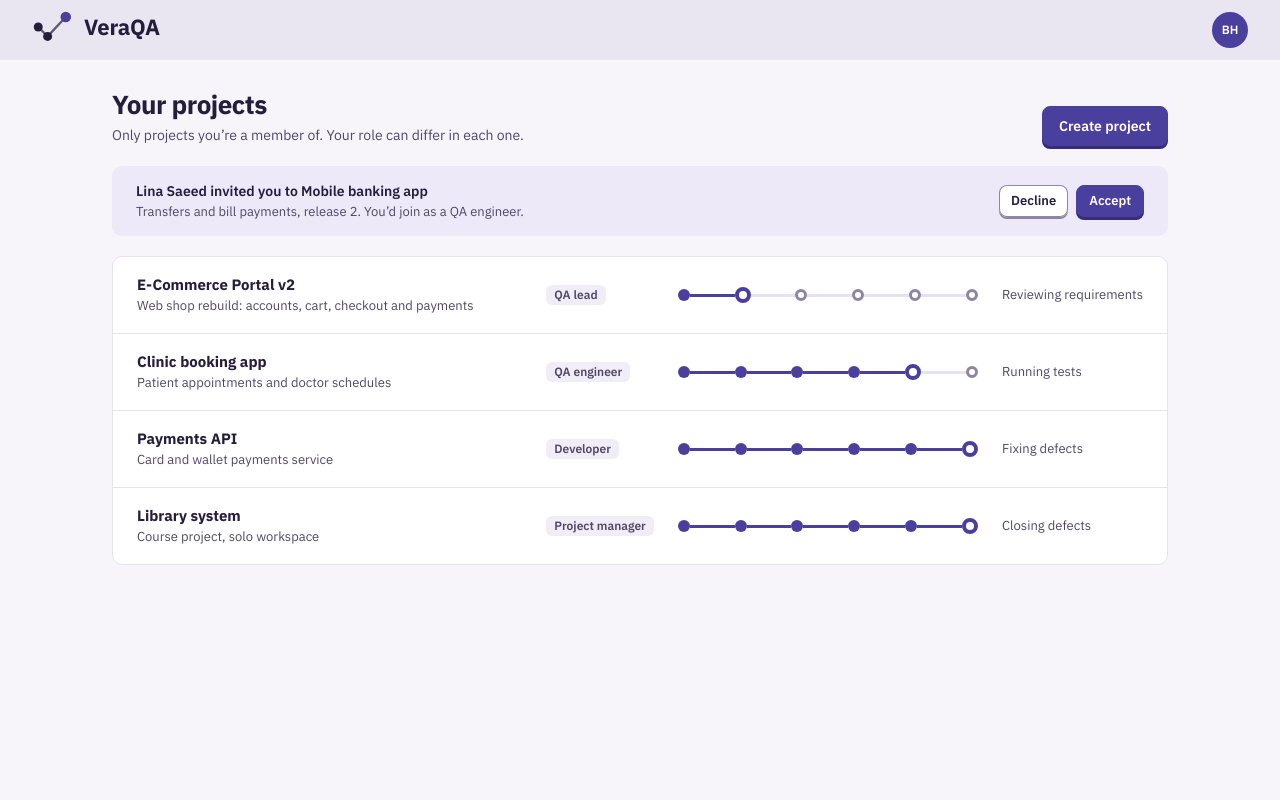
Test: Your projects › opens the project and says so when you accept
Click the button "Accept": (1110, 201) [1076,185,1144,217]
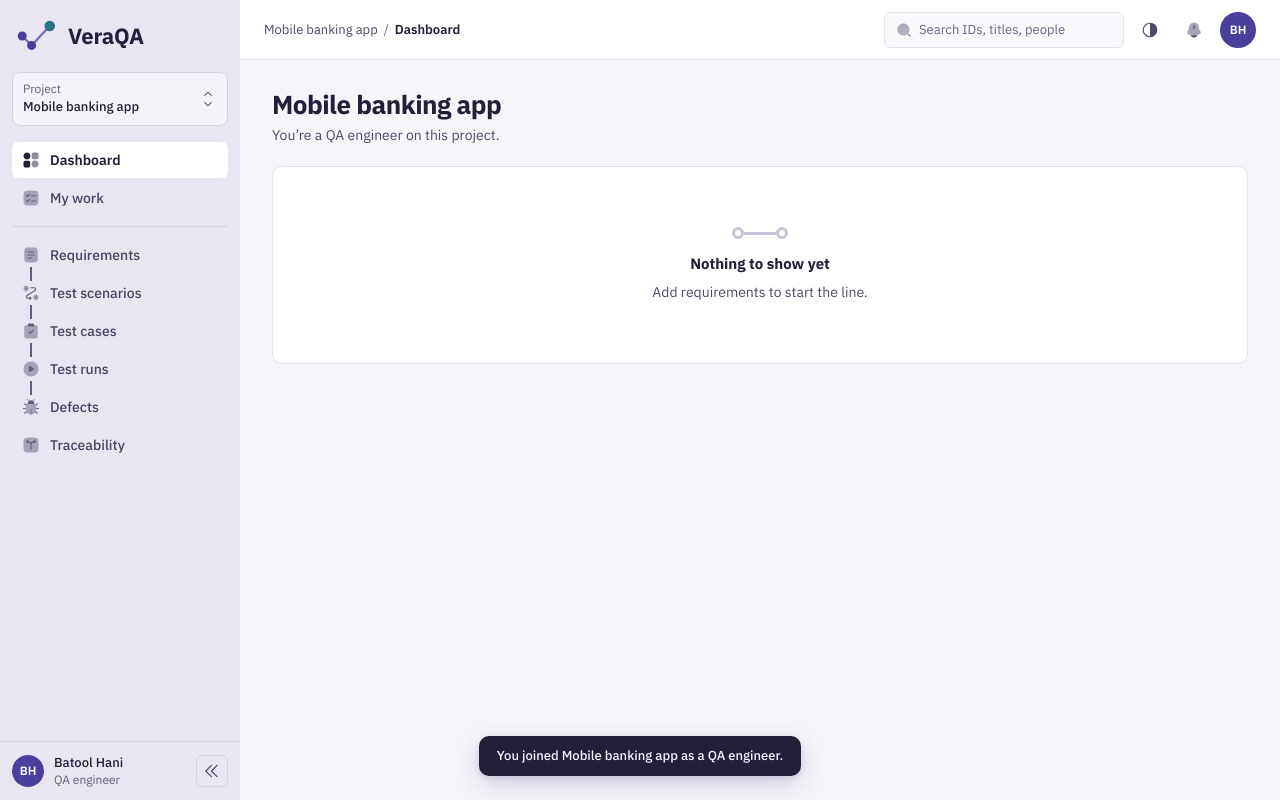
Check: the text "You joined Mobile banking app as a QA engineer." is shown, box [497,746,783,766]
